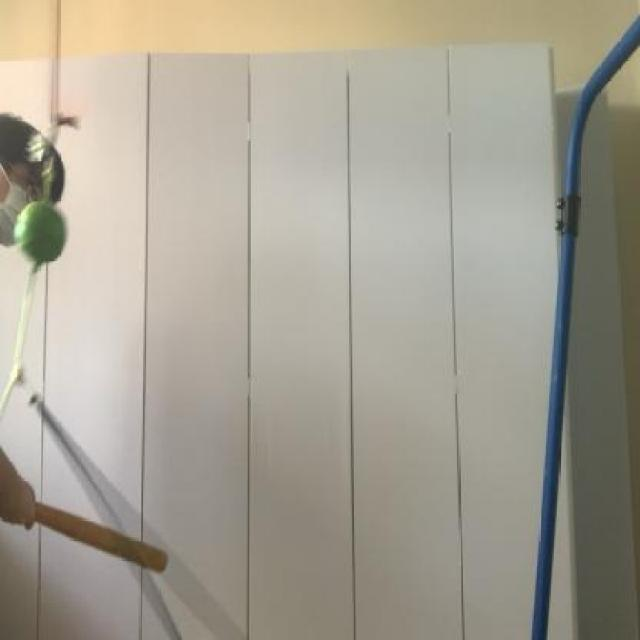baseball: (18, 194, 68, 277)
